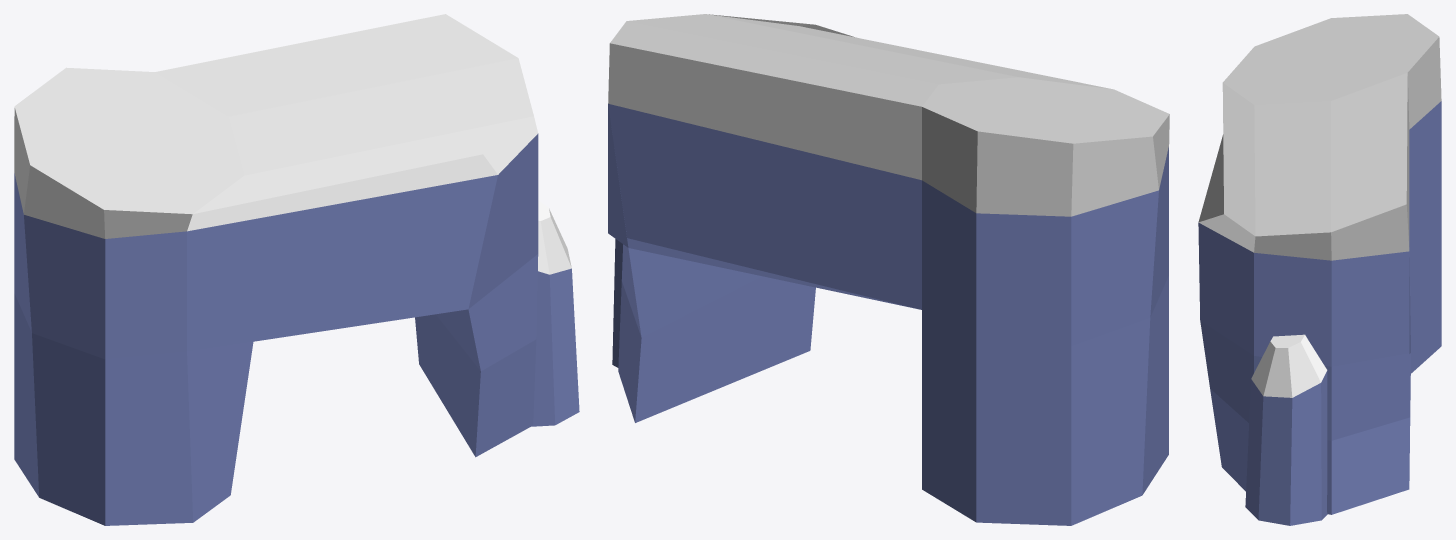
The model's file is Rock02_Low.fbx.
3 renders of one model, left to right at view 1: azimuth 30°, elevation 25°; view 2: azimuth 150°, elevation 25°; view 3: azimuth 270°, elevation 25°, orthographic. The views are drawn at different scales.
Visible parts, largest first — view 1: Rock02_Low; view 2: Rock02_Low; view 3: Rock02_Low.
Part boxes in pixels (box(x1,y1,x2,y2)): Rock02_Low: box(14, 14, 579, 525); Rock02_Low: box(608, 14, 1169, 525); Rock02_Low: box(1198, 14, 1441, 525).
Size of the model in its own units: 314 by 209 by 147.
